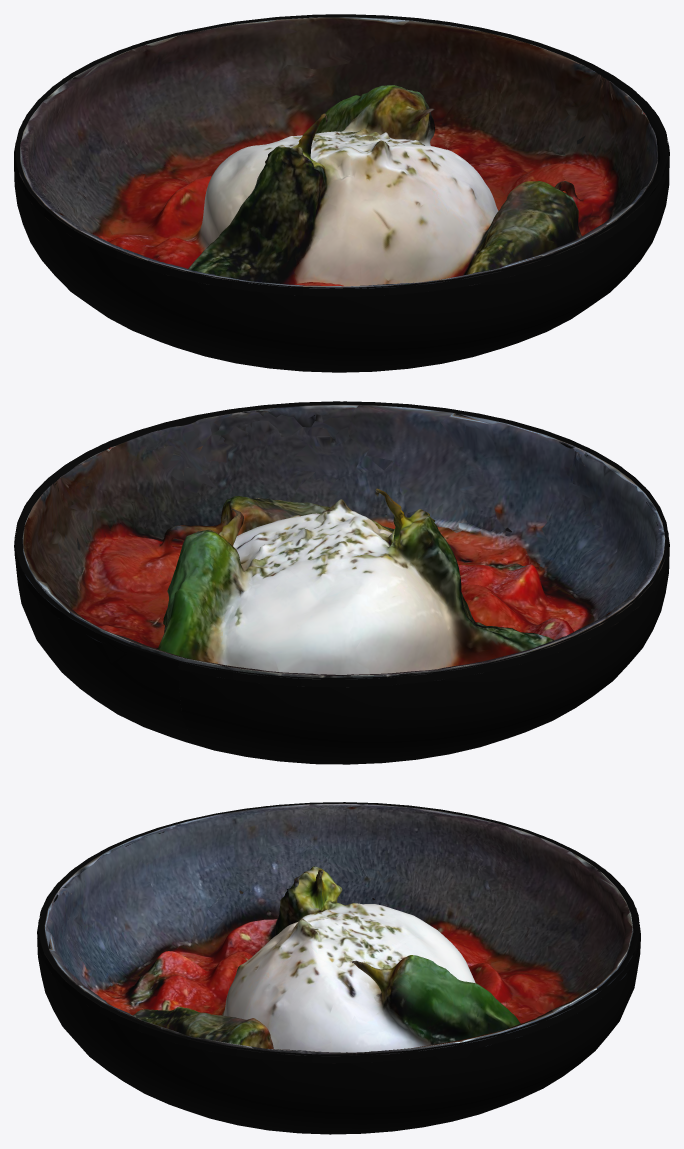
File: Plato_10.glb
The picture shows the model from 3 angles, top to bottom: view 1: azimuth 30°, elevation 25°; view 2: azimuth 150°, elevation 25°; view 3: azimuth 270°, elevation 25°; orthographic projection. The views are drawn at different scales.
Parts seen in each view (by area): view 1: Burrata con Pomodorini edit.002 Decimate, Metal_Bowl.001; view 2: Burrata con Pomodorini edit.002 Decimate, Metal_Bowl.001; view 3: Burrata con Pomodorini edit.002 Decimate, Metal_Bowl.001.
Part boxes in pixels (left/top/right/bottom): Burrata con Pomodorini edit.002 Decimate: left=19, top=17, right=657, bottom=295; Metal_Bowl.001: left=14, top=14, right=669, bottom=372; Burrata con Pomodorini edit.002 Decimate: left=22, top=404, right=665, bottom=708; Metal_Bowl.001: left=14, top=401, right=669, bottom=764; Burrata con Pomodorini edit.002 Decimate: left=44, top=803, right=633, bottom=1063; Metal_Bowl.001: left=37, top=802, right=640, bottom=1134.
Size of the model in its own units: 0.1976 by 0.0604 by 0.1995.
2 materials, 1 textured.
